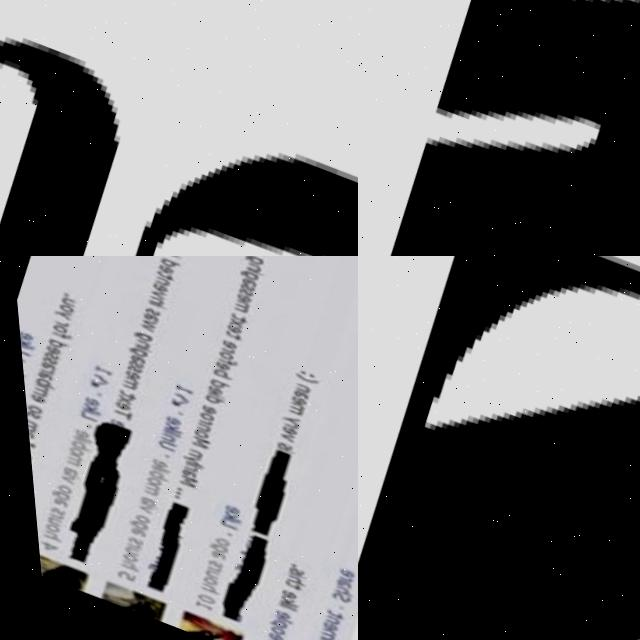0: (29, 537, 50, 552)
1: (105, 567, 128, 583)
G: (0, 0, 358, 256)
M: (358, 0, 640, 256)
Z: (358, 256, 640, 640)
